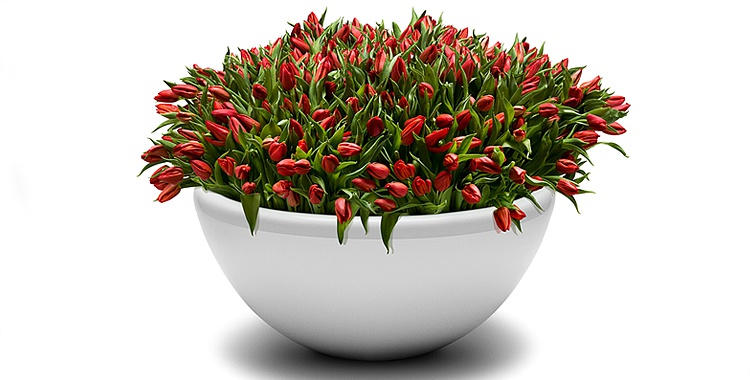flowerpot: (190, 174, 558, 357)
